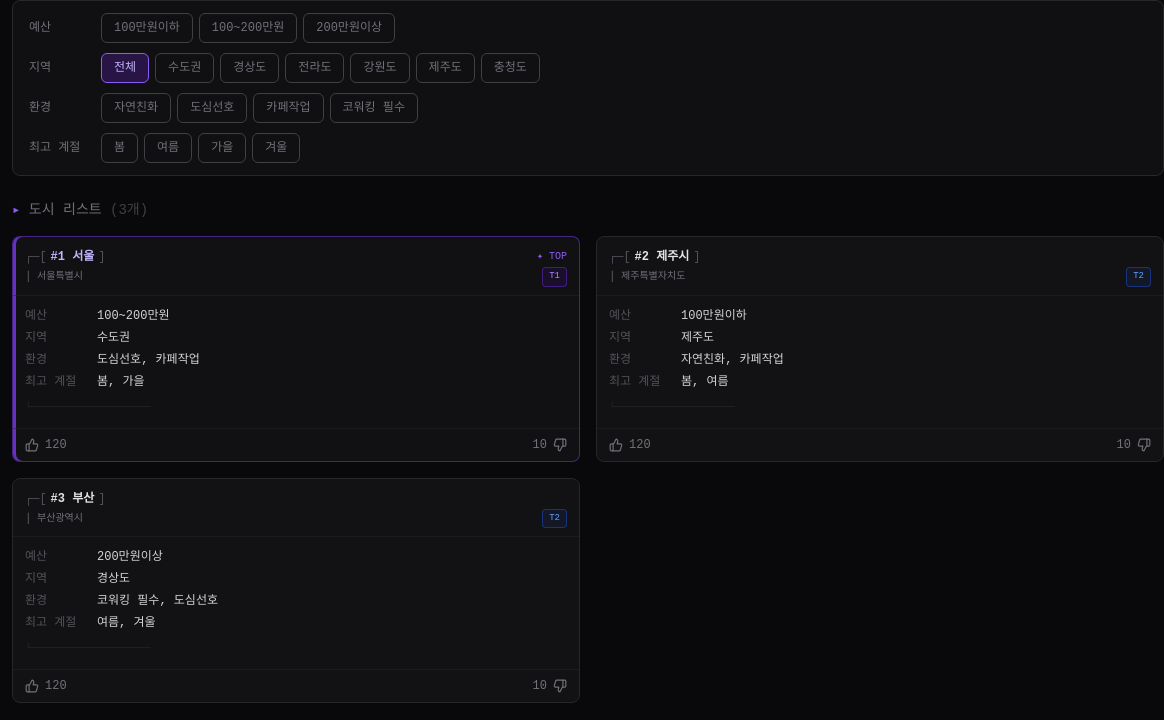
Test: CitySection › district filter: only cities matching the district are shown
Click '경상도' district filter button
Click the button "경상도".
click(250, 68)  # box [220,53,279,83]
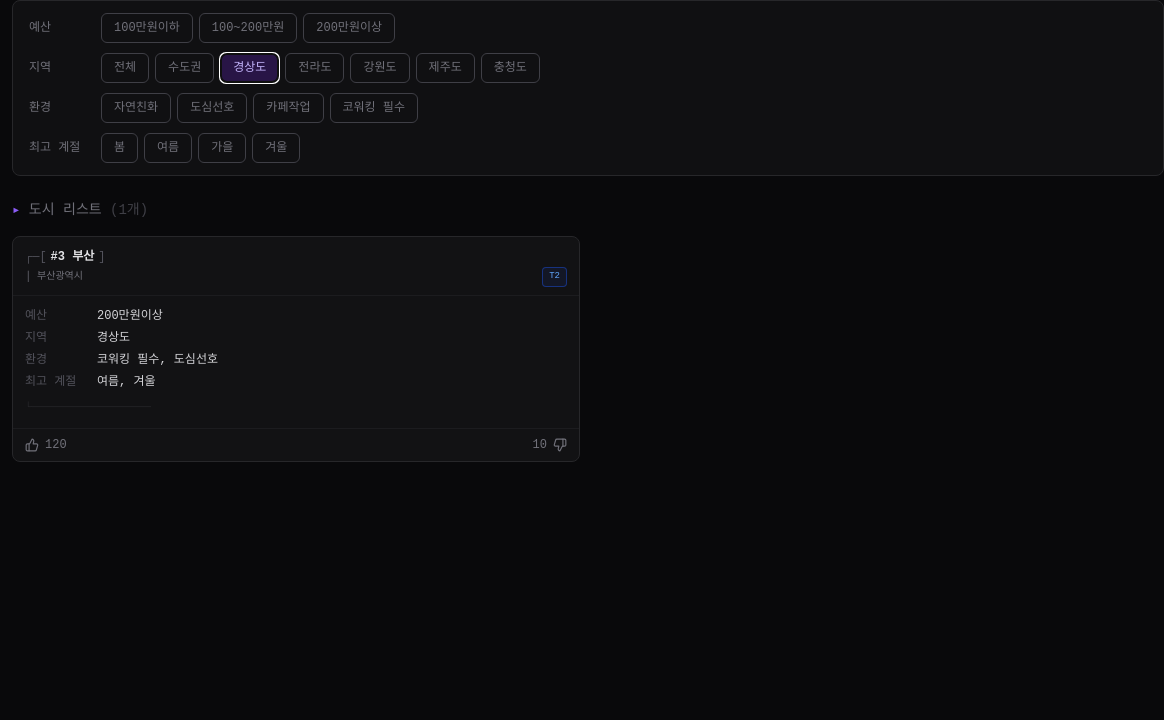
Expected: the text "#3 부산" is shown, [51,249,94,265]
Expected: the link "#1 서울" is gone
Expected: the link "#2 제주시" is gone
